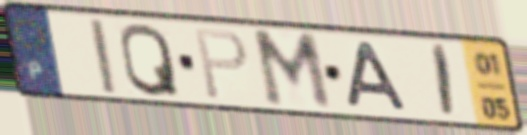A: (345, 39, 413, 114)
I: (84, 16, 120, 96), (431, 42, 457, 121)
M: (249, 28, 336, 114)
P: (192, 26, 251, 102)
Q: (117, 20, 183, 99)
